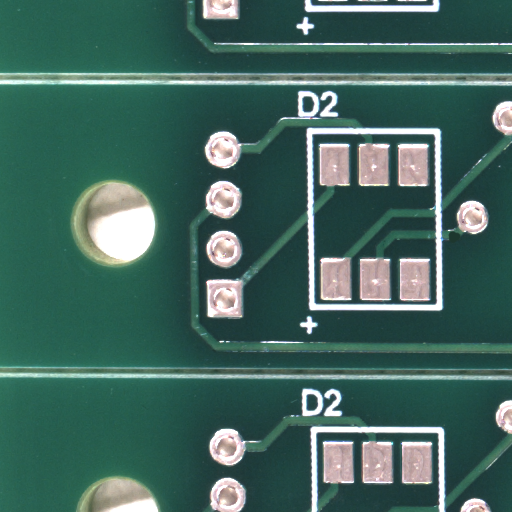Mouse_bite: (454, 237, 465, 247)
